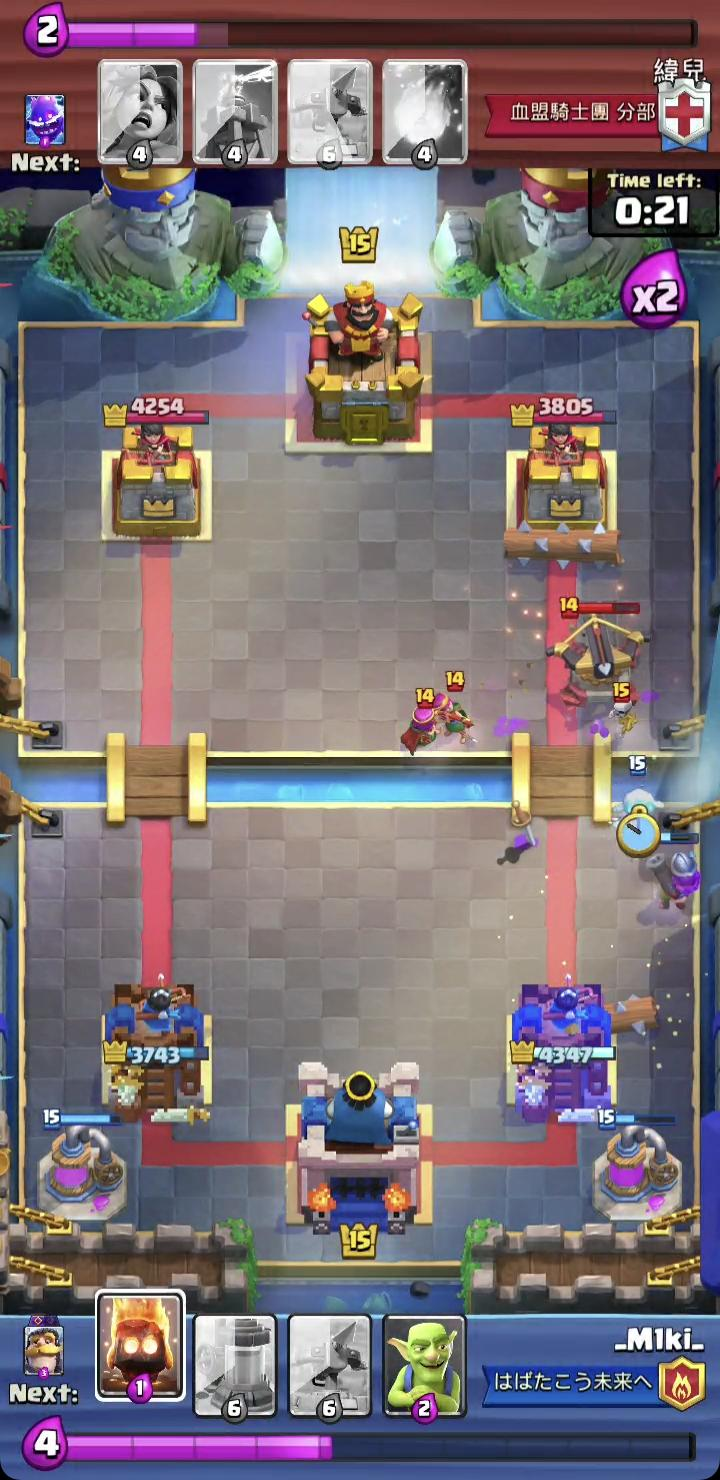ally_elixirpump: (591, 1106, 686, 1225), (35, 1108, 129, 1226)
ally_ice_spirit: (618, 752, 664, 826)
ally_musketeer: (638, 823, 701, 916)
enemy_archer: (397, 684, 446, 757), (431, 669, 475, 748)
enemy_skeleton: (607, 680, 638, 744)
enemy_xbow: (543, 596, 654, 709)
